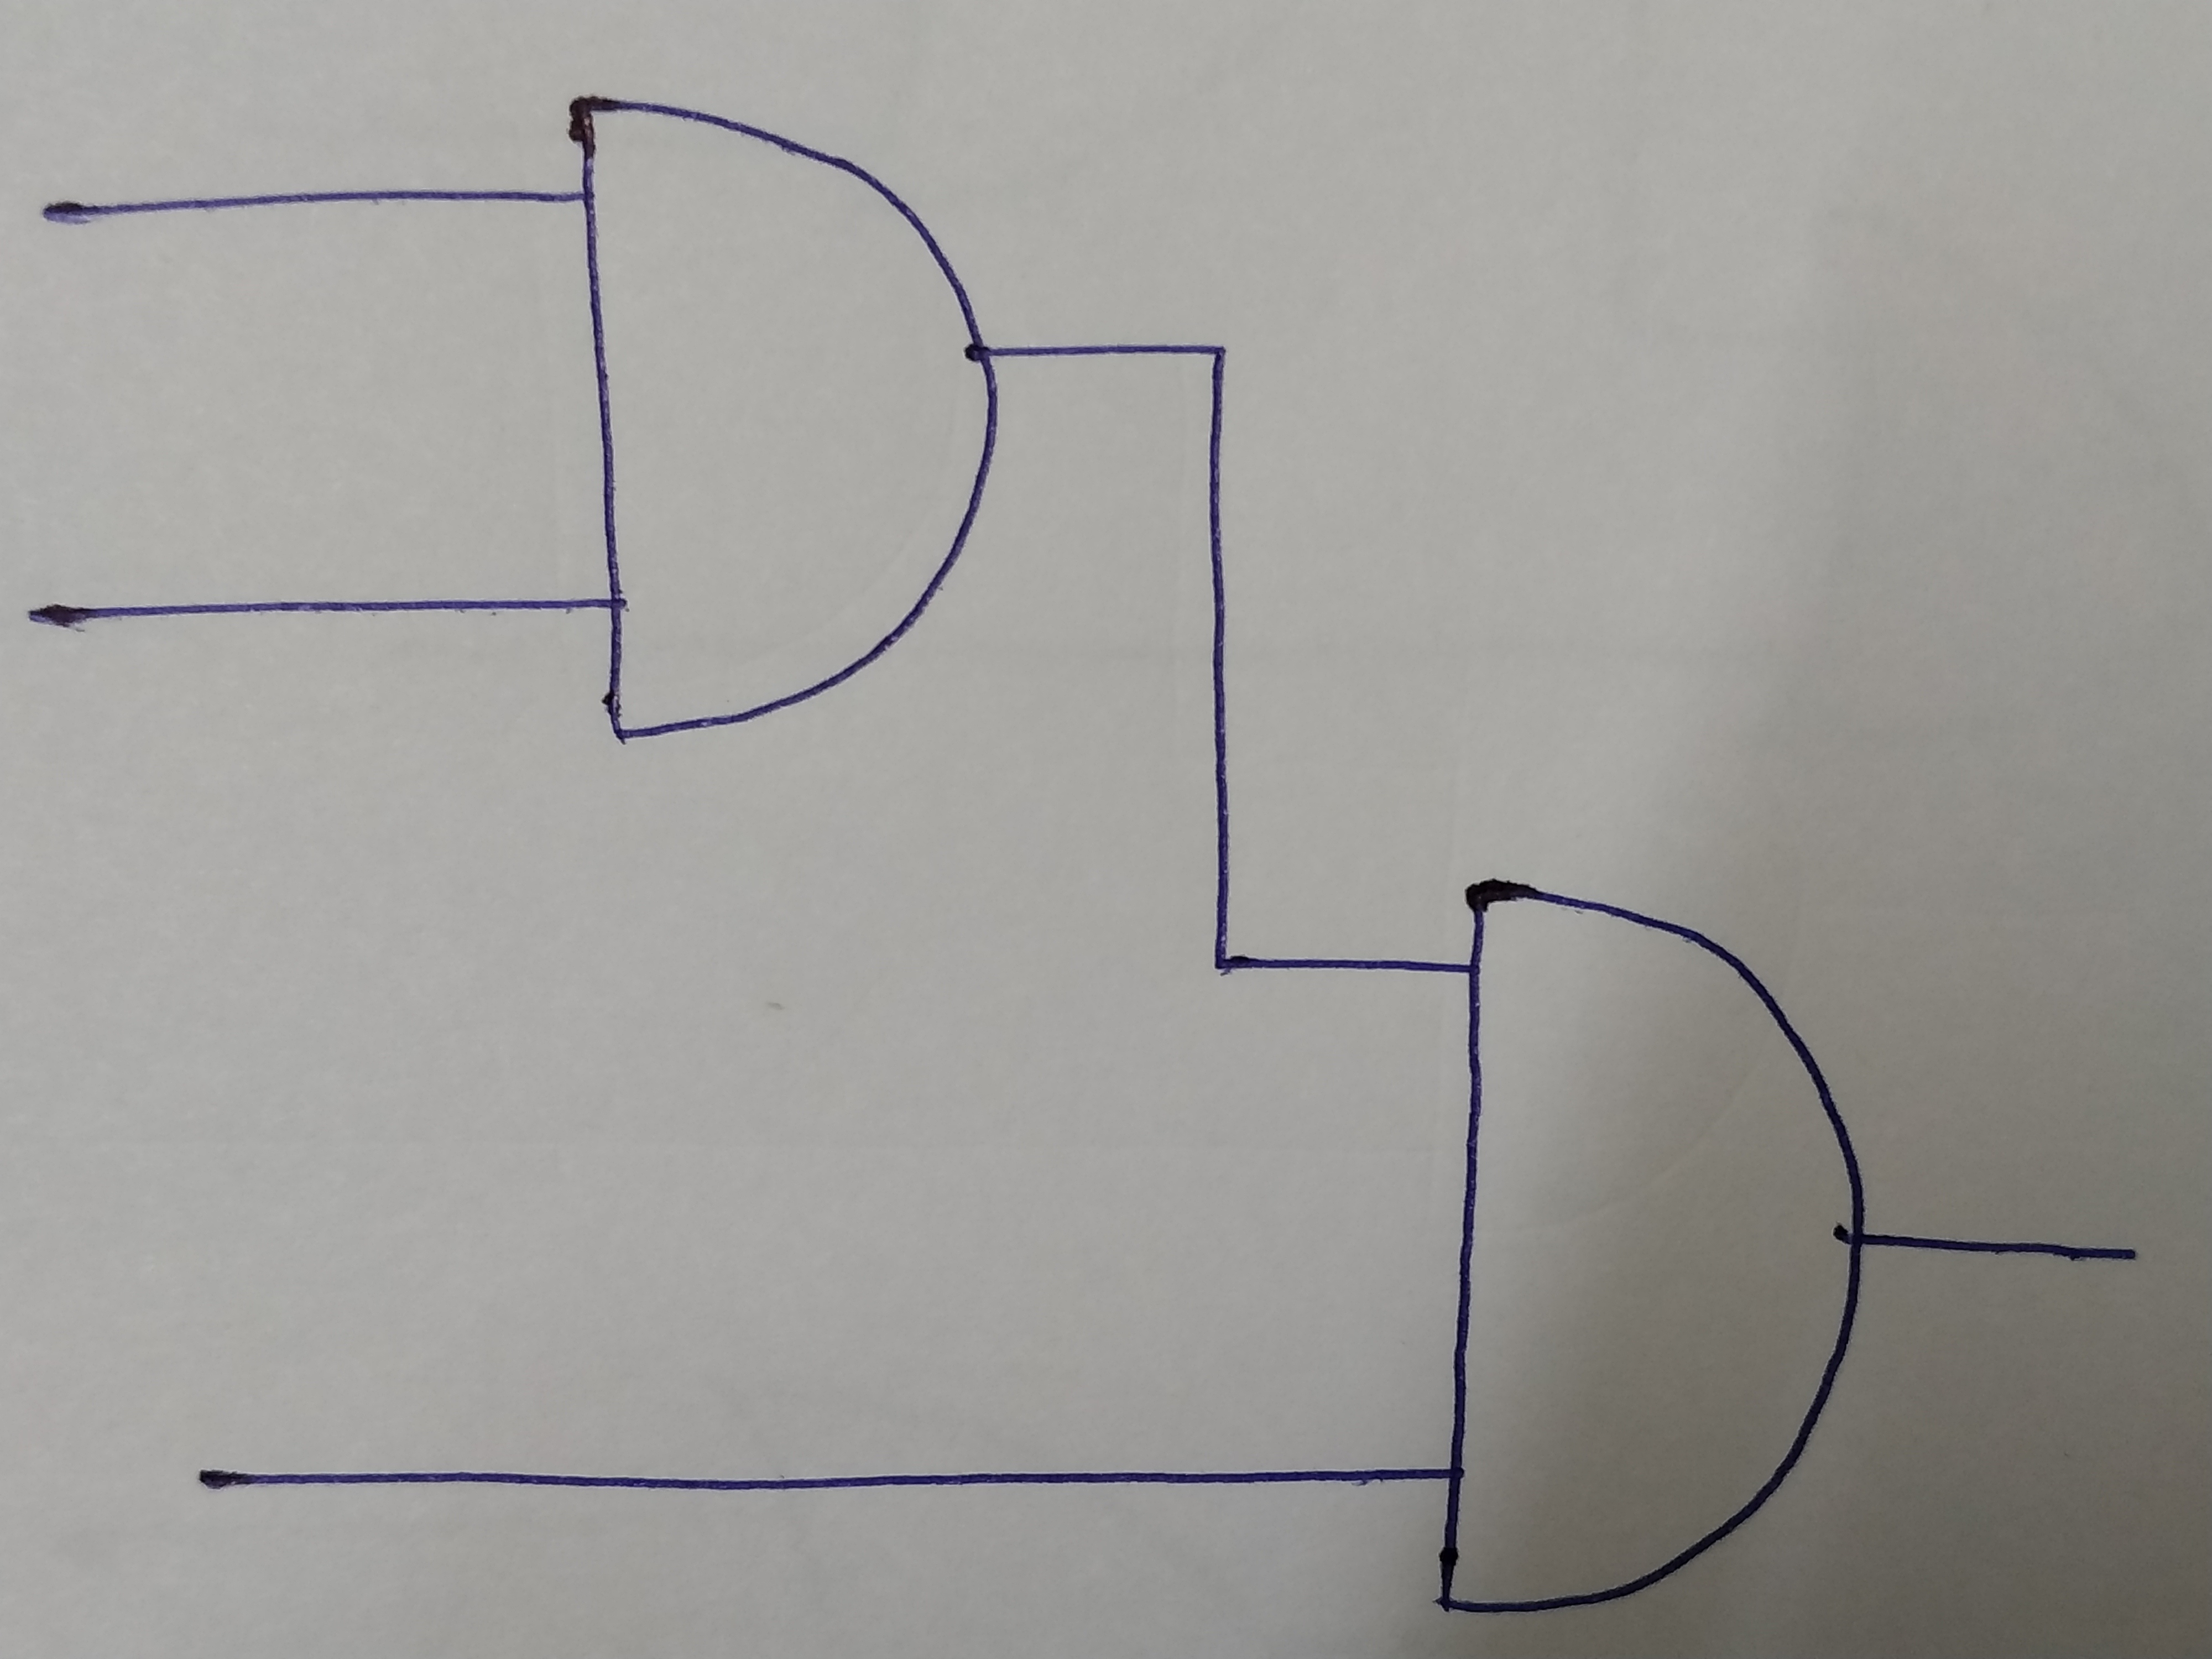and: (1453, 871, 1858, 1605), (573, 103, 981, 734)
